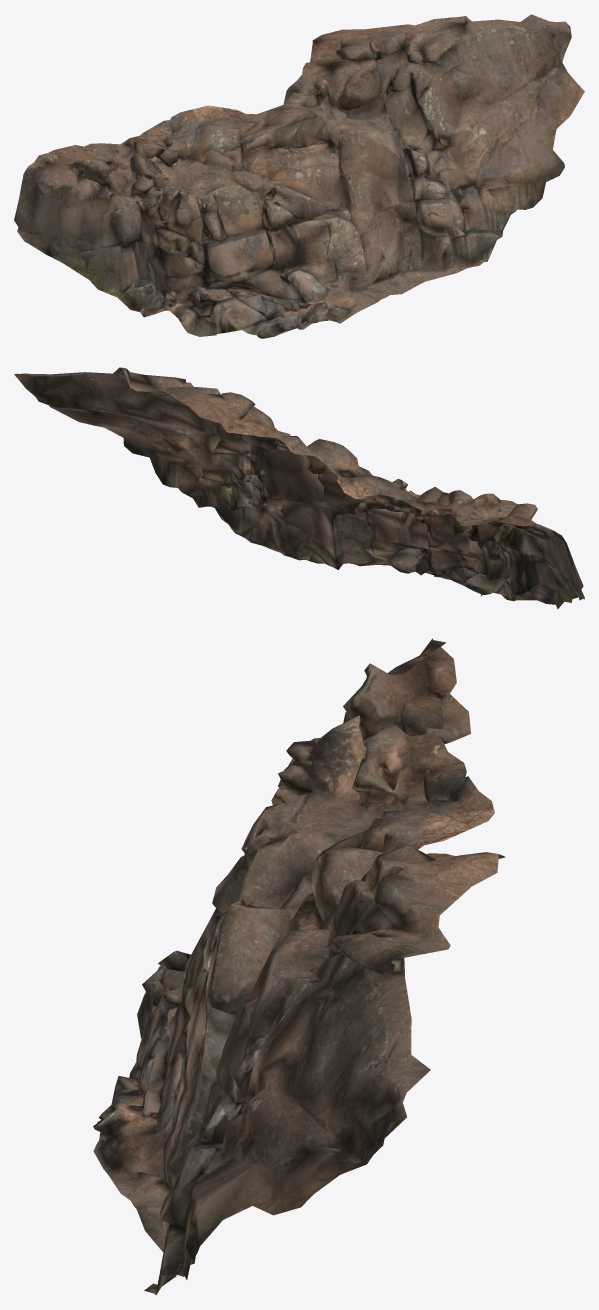
File: cliff-shell-02.glb
3 renders of one model, top to bottom at view 1: azimuth 30°, elevation 25°; view 2: azimuth 150°, elevation 25°; view 3: azimuth 270°, elevation 25°, orthographic. The views are drawn at different scales.
Parts seen in each view (by area): view 1: drone_rock_02_LOD0; view 2: drone_rock_02_LOD0; view 3: drone_rock_02_LOD0.
Part boxes in pixels (x1=…): drone_rock_02_LOD0: x1=14, y1=14, x2=584, y2=338; drone_rock_02_LOD0: x1=14, y1=367, x2=584, y2=609; drone_rock_02_LOD0: x1=93, y1=638, x2=505, y2=1295.
Size of the model in its own units: 20.2 by 7.17 by 6.58.
1 material, 1 textured.
